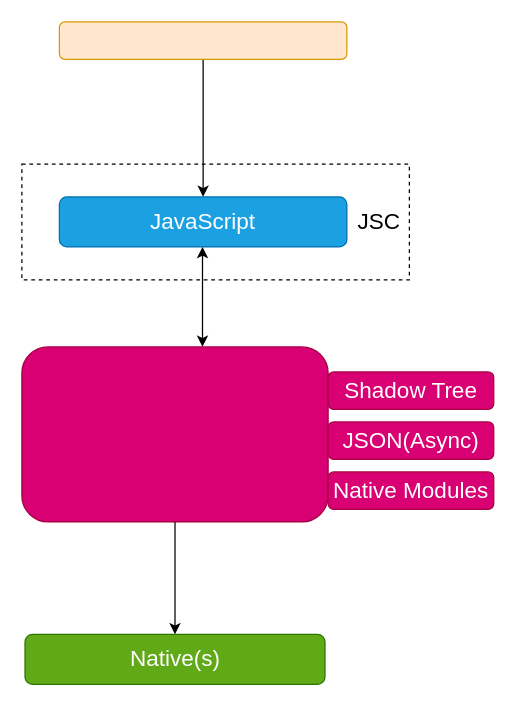
Image size: 516x706. Some labels were removed from this diagram. Each missing label, with the centre of its shape:
"Bridge" belongs at point (174, 434).
"React" belongs at point (202, 40).
